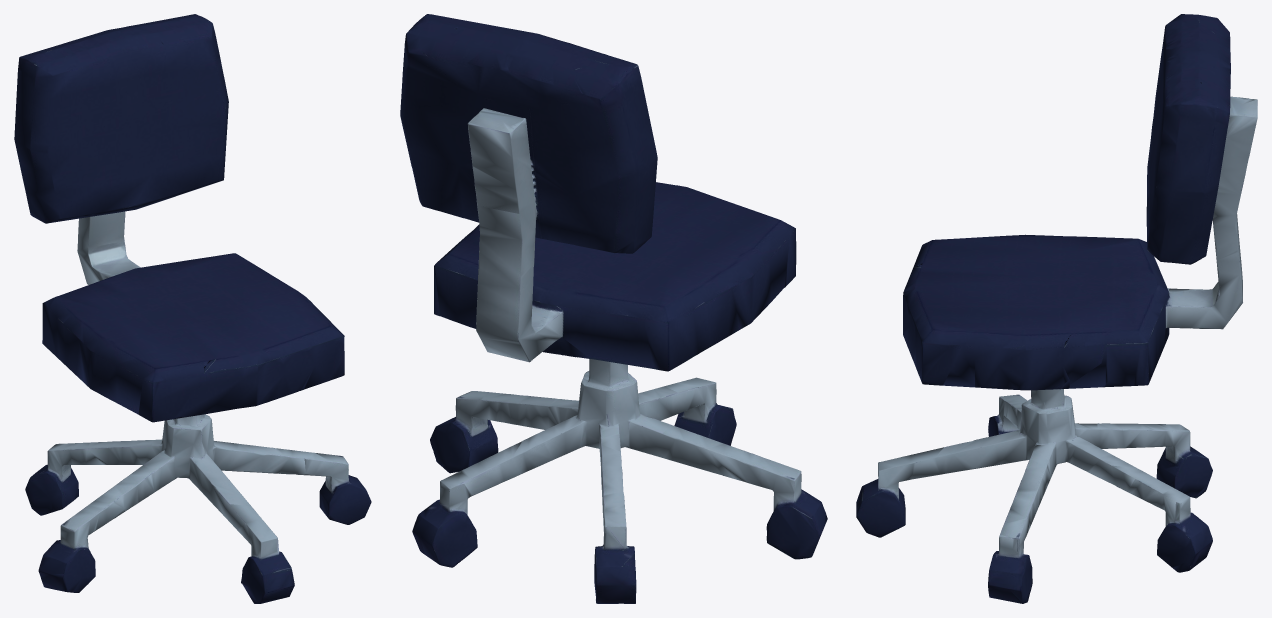
File: chair.glb
The picture shows the model from 3 angles, left to right: view 1: azimuth 30°, elevation 25°; view 2: azimuth 150°, elevation 25°; view 3: azimuth 270°, elevation 25°; orthographic projection. The views are drawn at different scales.
Visible parts, largest first — view 1: Mesh_0; view 2: Mesh_0; view 3: Mesh_0.
Part boxes in pixels (x1,y1,x2,y2): Mesh_0: [14, 14, 371, 603]; Mesh_0: [400, 14, 827, 603]; Mesh_0: [856, 14, 1257, 603].
Bounding box in the file's own units: 1.42 × 1.91 × 1.45.
Materials: 1 (1 with a texture image).
